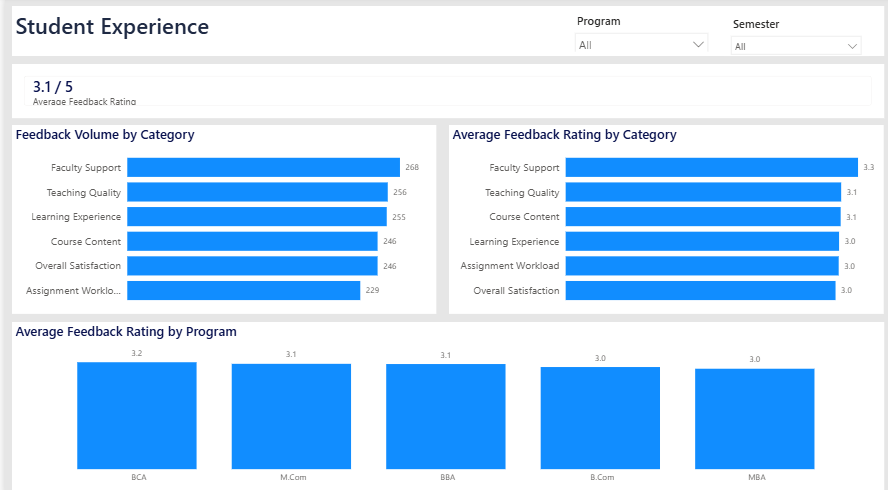

What the dashboard file says about the page in this screenshot:
{"tool":"powerbi","page":{"name":"Student Experience","canvas":[1280,720],"ordinal":3},"visuals":[{"type":"clusteredBarChart","title":"Feedback Volume by Category","fields":{"Category":["Student_Feedback_Master.Feedback_Category"],"Y":["CountNonNull(Student_Feedback_Master.Feedback_ID)"]},"box":[10.1,184.3,610.6,272.2],"z":0},{"type":"clusteredBarChart","title":"Average Feedback Rating by Category","fields":{"Category":["Student_Feedback_Master.Feedback_Category"],"Y":["Student_Feedback_Master.Average Feedback Rating"]},"box":[639.4,184.3,626.4,272.2],"z":1000},{"type":"textbox","box":[10.1,13,1255.7,72],"z":2000},{"type":"clusteredColumnChart","fields":{"Y":["Student_Feedback_Master.Average Feedback Rating"],"Category":["Student_Feedback_Master.Program"]},"box":[10.1,468,1255.7,241.9],"z":3000},{"type":"cardVisual","fields":{"Data":["Student_Feedback_Master.Average Feedback Rating"]},"box":[10.1,96.5,1255.7,77.8],"z":4000},{"type":"slicer","fields":{"Values":["Student_Master.Program"]},"box":[810.7,18.7,212,60],"z":5000},{"type":"slicer","fields":{"Values":["Student_Master.Semester"]},"box":[1035.4,23,208,62],"z":6000}]}

Visuals, with their boxes in screenshot pixels (x1, y1, x2, y2), scaled from the page's 1280x720 canvas onto the 888x490 screenshot:
"Feedback Volume by Category" clusteredBarChart: bbox=[7, 125, 431, 311]
"Average Feedback Rating by Category" clusteredBarChart: bbox=[444, 125, 878, 311]
textbox: bbox=[7, 9, 878, 58]
clusteredColumnChart - Student_Feedback_Master.Average Feedback Rating x Student_Feedback_Master.Program: bbox=[7, 318, 878, 483]
cardVisual - Student_Feedback_Master.Average Feedback Rating: bbox=[7, 66, 878, 119]
slicer - Student_Master.Program: bbox=[562, 13, 709, 54]
slicer - Student_Master.Semester: bbox=[718, 16, 863, 58]
